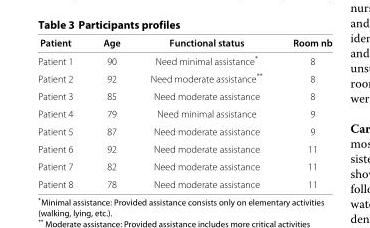table: (37, 36, 331, 189)
table column: (134, 36, 277, 189), (277, 36, 331, 189), (37, 36, 87, 189), (87, 36, 134, 189)
table column header: (37, 36, 331, 50)
table row: (37, 68, 331, 87), (37, 50, 331, 68), (37, 104, 331, 122), (37, 139, 331, 157), (37, 157, 331, 175), (37, 87, 331, 104), (37, 122, 331, 139), (37, 36, 331, 50), (37, 175, 331, 189)
